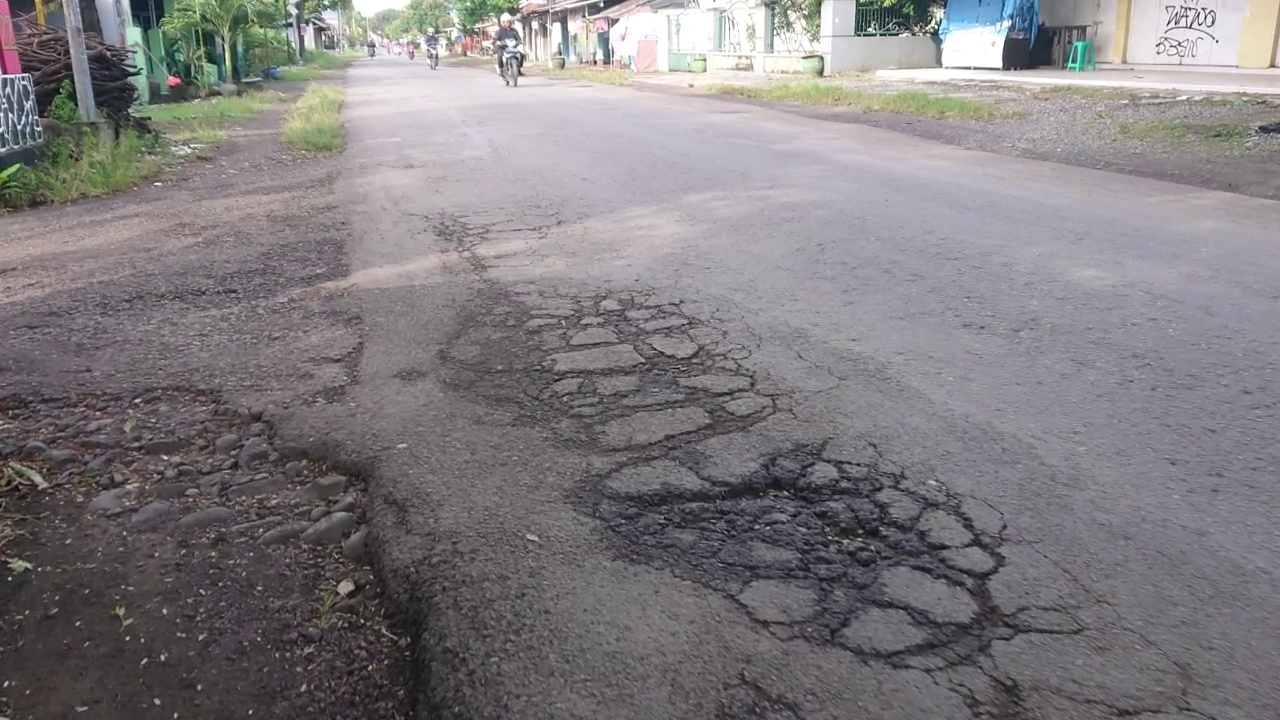Retak: (485, 292, 1003, 696)
